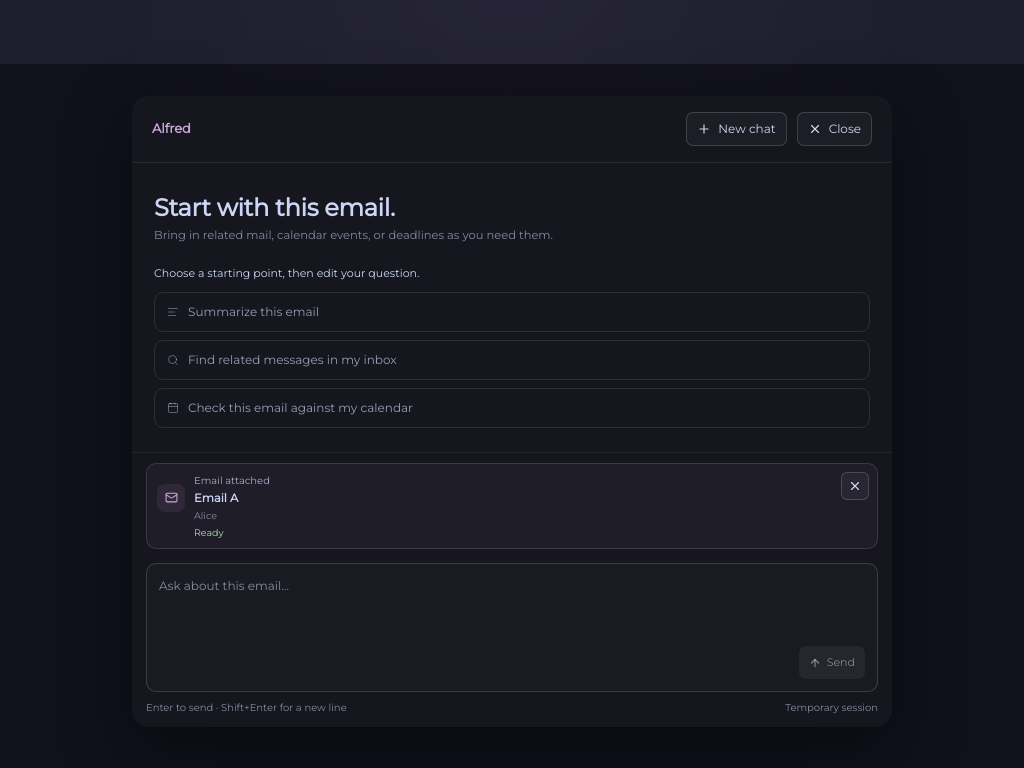
Test: AlfredPanel › removes a staged email without clearing the draft or sending it
This screenshot has width=1024, height=768.
Type "Keep this draft" into the text box with placeholder "Ask about this email…" at (512, 608), box [159,576,865,638]
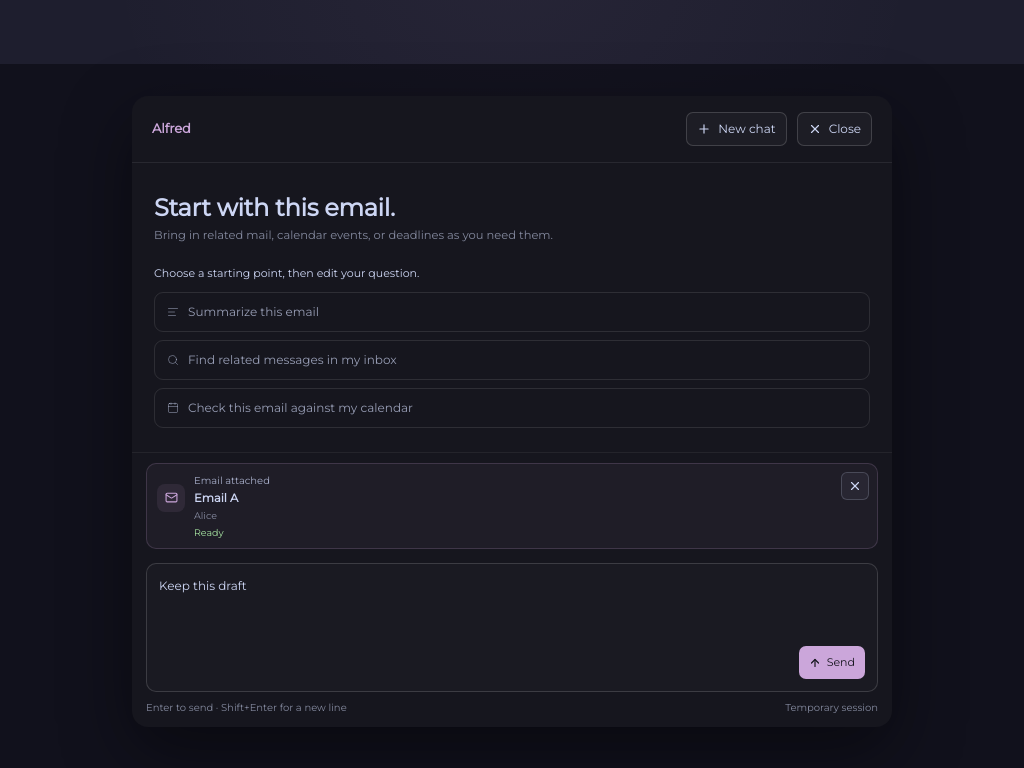
Click the button named "Remove attached email: Email A" at (855, 486), box [841,472,869,500]
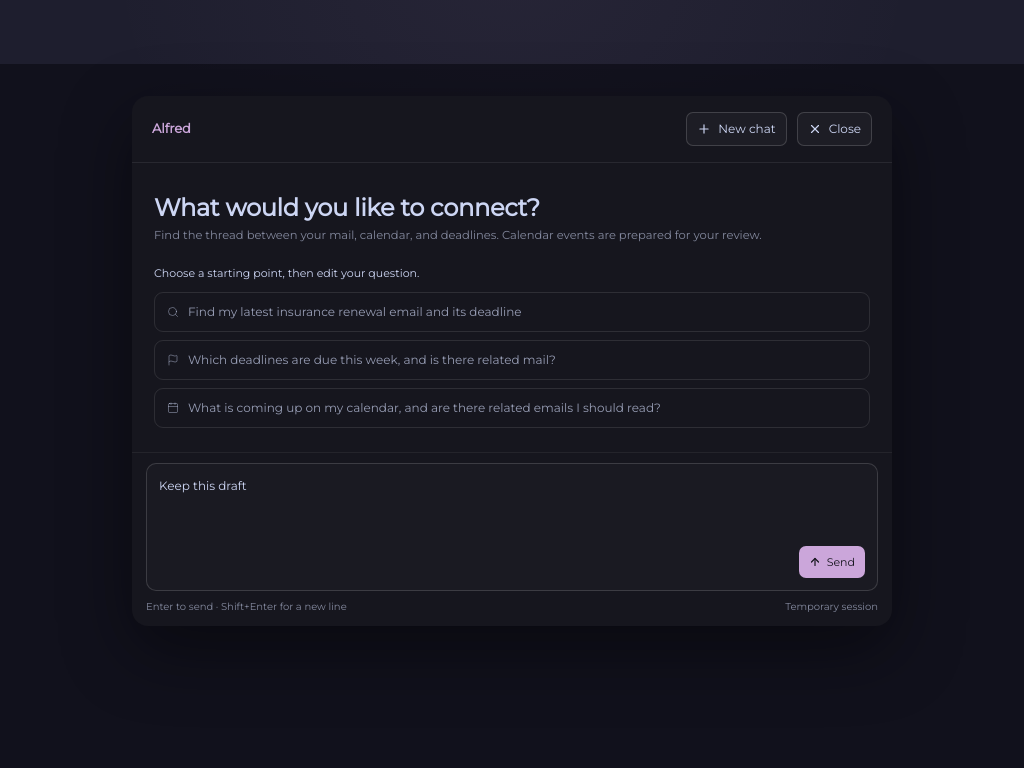
Expected: the element with test id "alfred-pending-email-context" is gone
